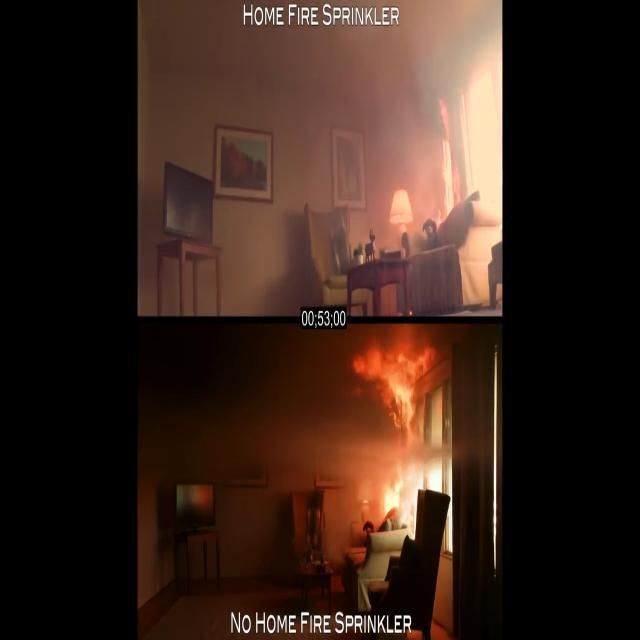Fire: (340, 336, 450, 532), (438, 107, 458, 220), (390, 183, 414, 230)
